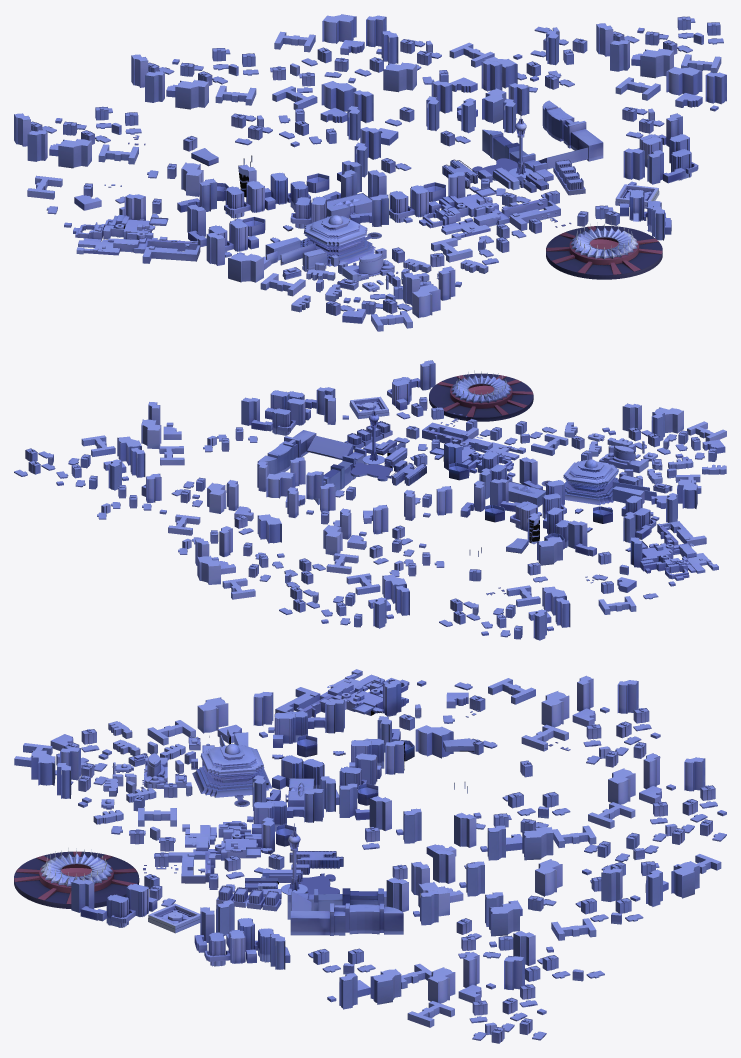
File: SmallBuilding.gltf
3 views of the same model, one above another, from view 1: azimuth 30°, elevation 25°; view 2: azimuth 150°, elevation 25°; view 3: azimuth 270°, elevation 25° (orthographic). The views are drawn at different scales.
Visible parts, largest first — view 1: SmallBuilding; view 2: SmallBuilding; view 3: SmallBuilding.
Part boxes in pixels (box(x1,y1,x2,y2)): SmallBuilding: box(14, 14, 726, 331); SmallBuilding: box(14, 360, 726, 640); SmallBuilding: box(14, 669, 726, 1043).
Bounding box in the file's own units: 23.64 × 2.51 × 19.22.
1 material, 1 textured.
